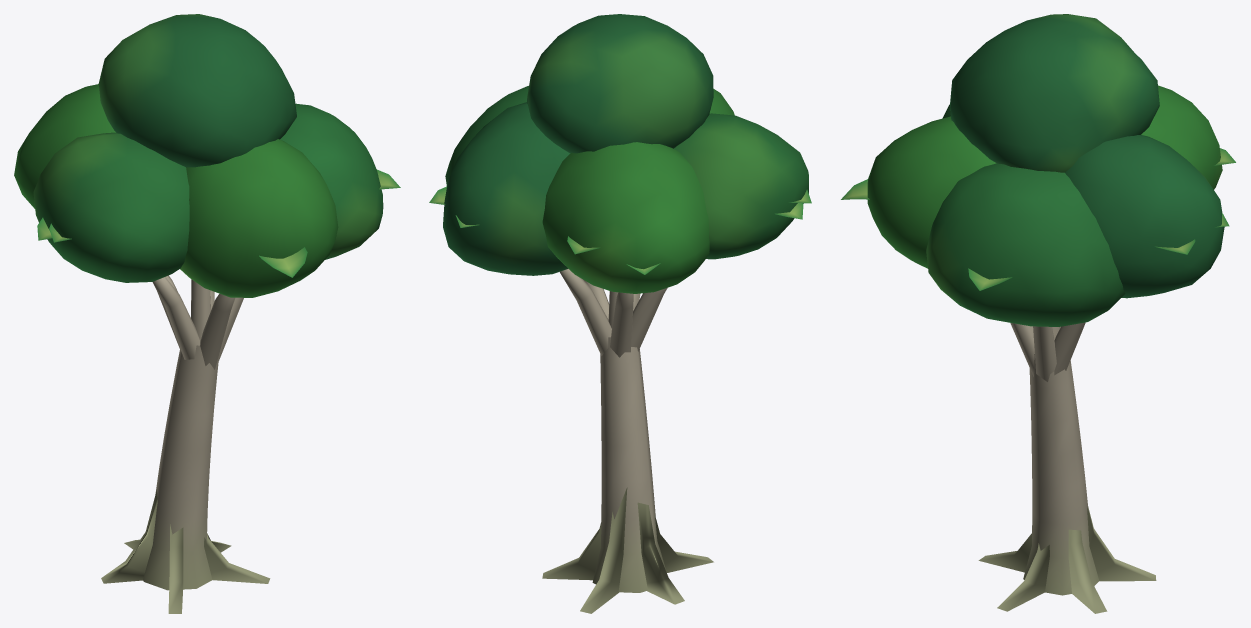
File: decor_tropical_toutes_2.glb
The picture shows the model from 3 angles, left to right: view 1: azimuth 30°, elevation 25°; view 2: azimuth 150°, elevation 25°; view 3: azimuth 270°, elevation 25°; orthographic projection.
Parts seen in each view (by area): view 1: feuillage, tronc; view 2: feuillage, tronc; view 3: feuillage, tronc.
Part boxes in pixels (left/top/right/bottom): feuillage: left=14, top=14, right=400, bottom=297; tronc: left=101, top=275, right=270, bottom=613; feuillage: left=429, top=14, right=811, bottom=293; tronc: left=542, top=269, right=713, bottom=613; feuillage: left=841, top=14, right=1235, bottom=326; tronc: left=978, top=322, right=1156, bottom=613.
Size of the model in its own units: 0.4263 by 0.66 by 0.4242.
